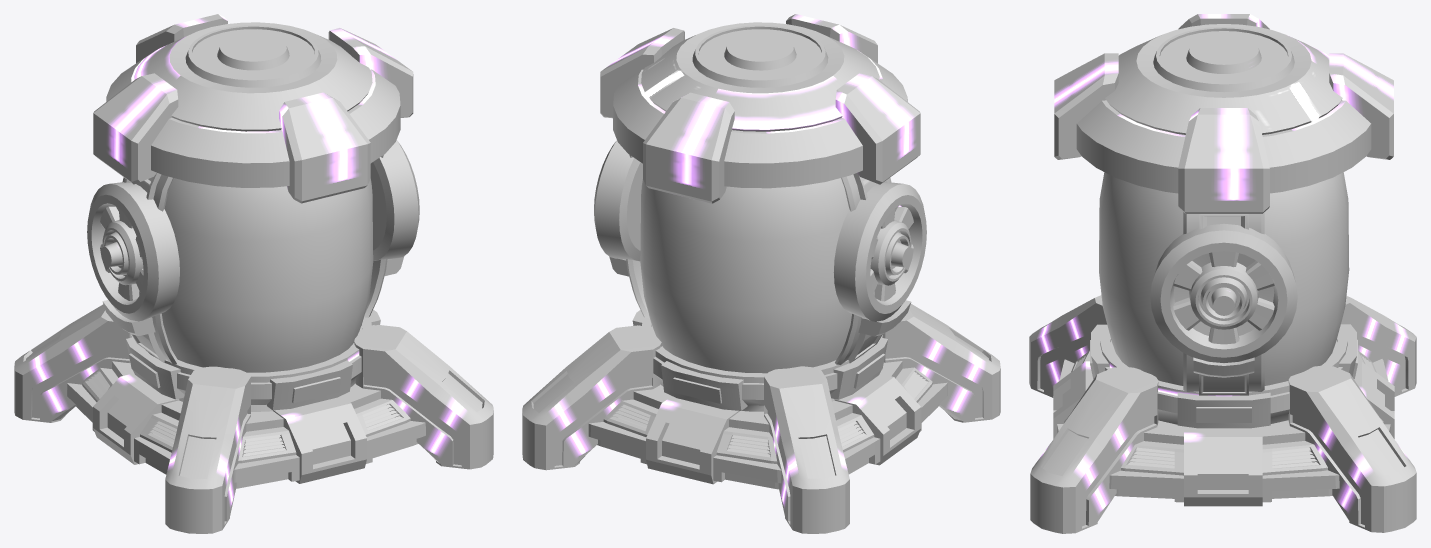
The model's file is DOT_Generator_Mesh.fbx.
3 renders of one model, left to right at view 1: azimuth 30°, elevation 25°; view 2: azimuth 150°, elevation 25°; view 3: azimuth 270°, elevation 25°, orthographic. The views are drawn at different scales.
Visible parts, largest first — view 1: Cylinder.008, Cylinder.004, Cylinder.001, Cube.012, Cube.009, Cylinder.003, Cylinder.006, Cube.003, Cube.011, Cylinder.010, Cube.024, Cube.005 (+10 smaller); view 2: Cylinder.008, Cylinder.004, Cylinder.001, Cube.021, Cube.003, Cylinder.003, Cylinder.006, Cube.009, Cube.020, Cylinder.010, Cube.024, Cube.005 (+10 smaller); view 3: Cylinder.008, Cylinder.001, Cylinder.004, Cylinder.010, Cube.012, Cube.021, Cylinder.003, Cube.014, Cube.024, Cube.013, Cube.009, Cube.003 (+9 smaller).
Boxes of the visible parts, x1,y1,x2,y2 form: Cylinder.008: [161, 178, 373, 372]; Cylinder.004: [93, 14, 413, 203]; Cylinder.001: [134, 22, 372, 131]; Cube.012: [354, 325, 493, 469]; Cube.009: [165, 366, 250, 533]; Cylinder.003: [106, 50, 400, 187]; Cylinder.006: [87, 182, 179, 321]; Cube.003: [14, 304, 131, 422]; Cube.011: [273, 396, 366, 483]; Cylinder.010: [370, 140, 419, 260]; Cube.024: [126, 309, 380, 410]; Cube.005: [93, 373, 179, 464]; Cylinder.008: [640, 178, 851, 373]; Cylinder.004: [600, 14, 920, 203]; Cylinder.001: [641, 22, 879, 131]; Cube.021: [522, 325, 661, 470]; Cube.003: [764, 366, 849, 533]; Cylinder.003: [613, 50, 907, 188]; Cylinder.006: [833, 182, 926, 321]; Cube.009: [883, 304, 1000, 422]; Cube.020: [646, 396, 739, 484]; Cylinder.010: [594, 140, 642, 261]; Cube.024: [632, 310, 887, 410]; Cube.005: [834, 373, 921, 465]; Cylinder.008: [1099, 172, 1349, 385]; Cylinder.001: [1105, 24, 1342, 134]; Cylinder.004: [1054, 14, 1393, 213]; Cylinder.010: [1150, 223, 1297, 362]; Cube.012: [1030, 366, 1158, 533]; Cube.021: [1288, 365, 1416, 532]; Cylinder.003: [1076, 100, 1371, 193]; Cube.014: [1184, 426, 1262, 506]; Cube.024: [1090, 324, 1357, 428]; Cube.013: [1262, 420, 1339, 502]; Cube.009: [1029, 295, 1106, 397]; Cube.003: [1341, 296, 1416, 396].
Size of the model in its own units: 76.41 by 86.88 by 75.98.
